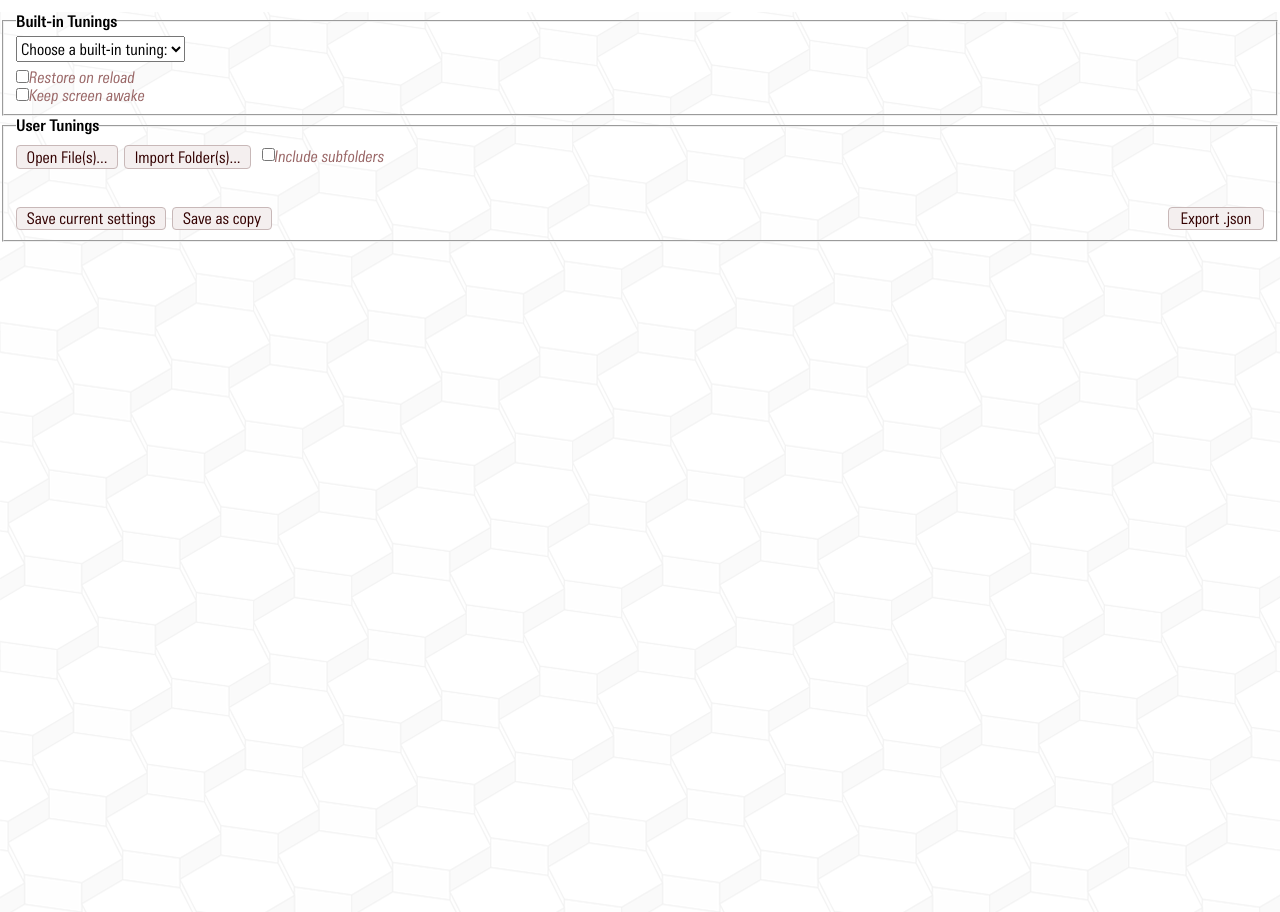
it: TuningLibrary › saves the current workspace as a user tuning and activates it
Click the button "Save current settings". click: [91, 218]
box: [16,207,166,230]
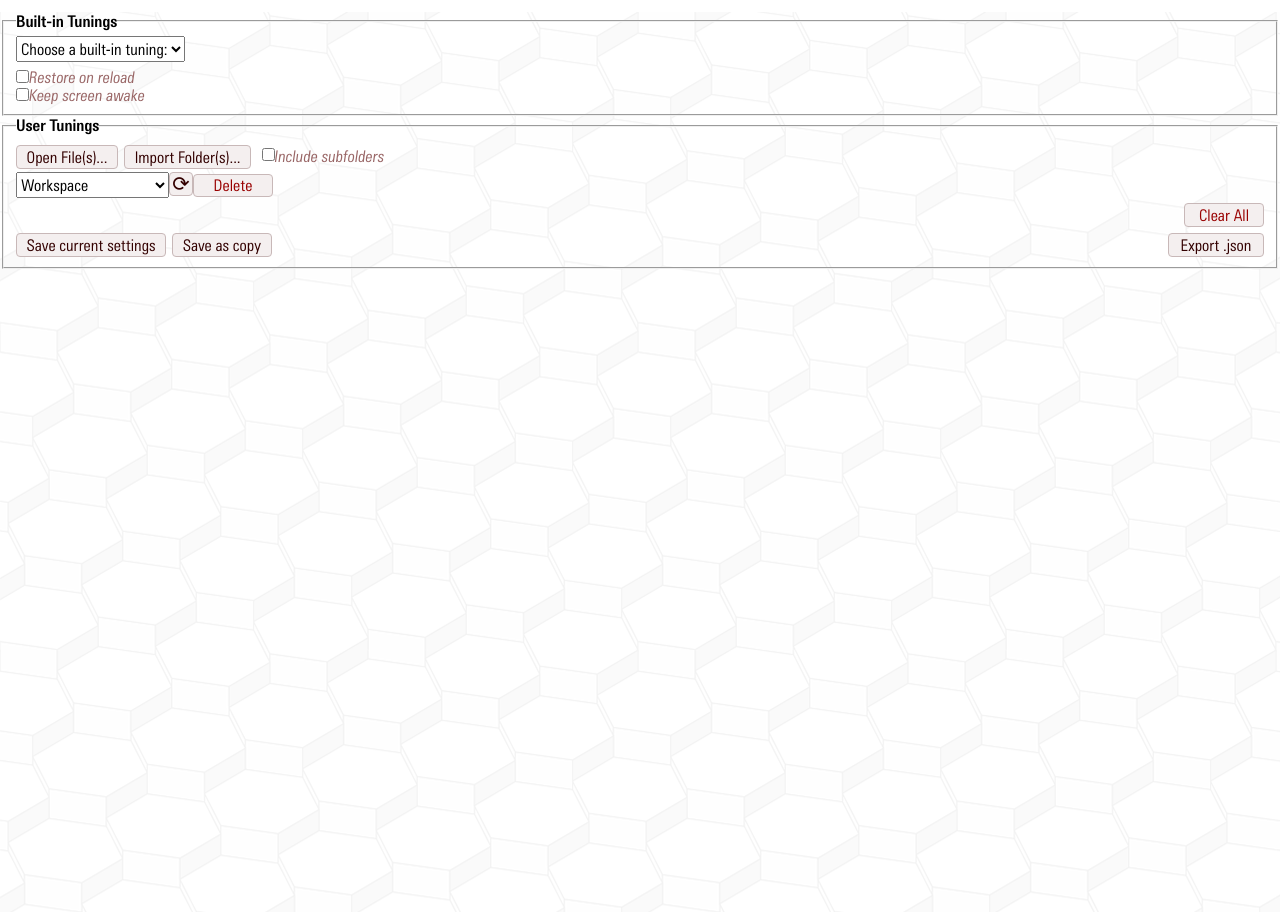
expect the dropdown named "User tunings" shows "Workspace": met, box [16,172,169,198]
